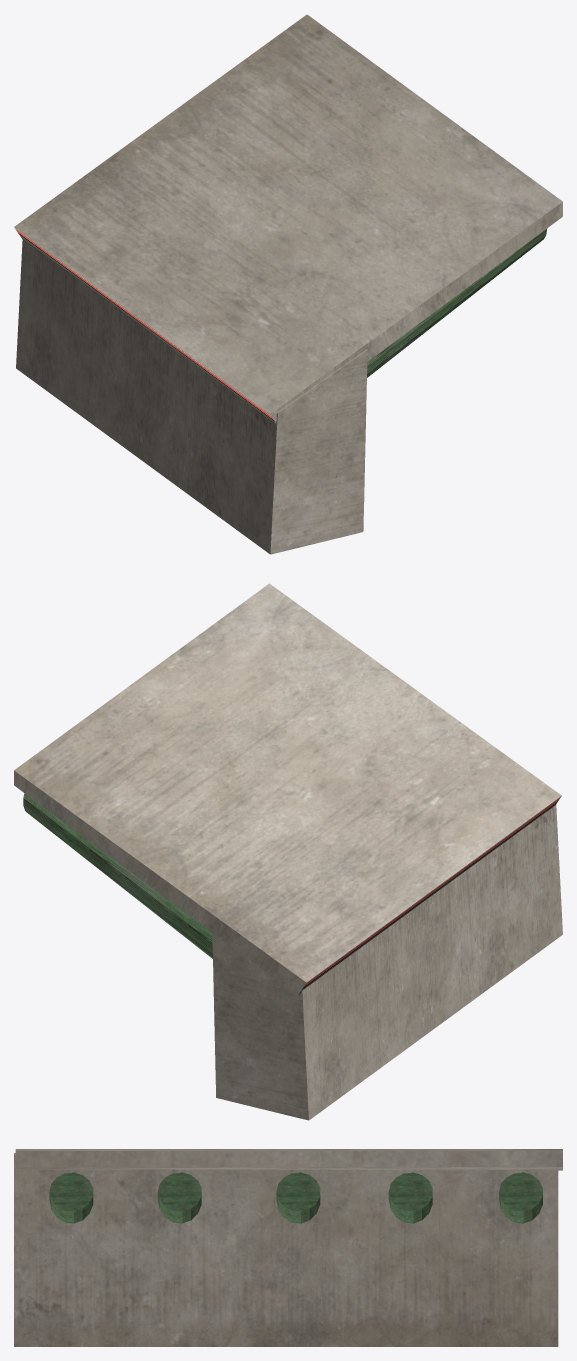
Rendered from SM_Roof_48.fbx.
3 views of the same model, one above another, from view 1: azimuth 30°, elevation 25°; view 2: azimuth 150°, elevation 25°; view 3: azimuth 270°, elevation 25° (orthographic). The views are drawn at different scales.
Visible parts, largest first — view 1: SM_Roof_48; view 2: SM_Roof_48; view 3: SM_Roof_48.
Boxes of the visible parts, x1,y1,x2,y2 form: SM_Roof_48: (14, 14, 562, 554); SM_Roof_48: (14, 583, 562, 1120); SM_Roof_48: (14, 1149, 562, 1346).
Bounding box in the file's own units: 218 × 330 × 199.
Materials: 3 (3 with a texture image).
